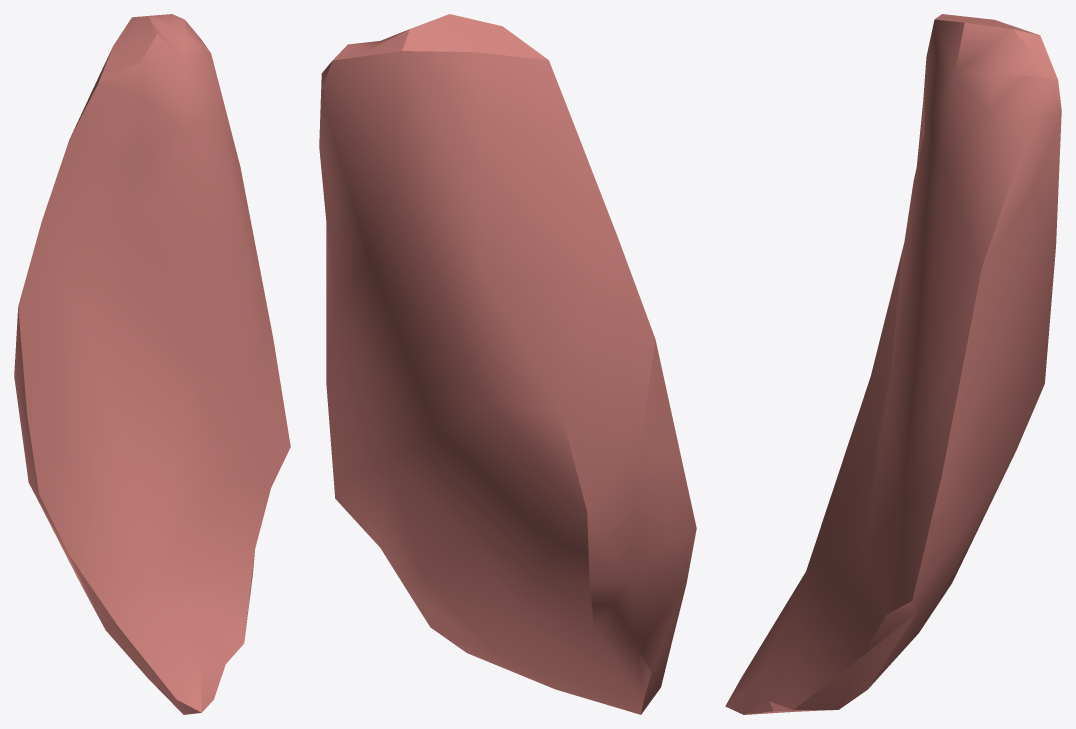
Rendered from fma81553_mm1326m.glb.
3 views of the same model, side by side, from view 1: azimuth 30°, elevation 25°; view 2: azimuth 150°, elevation 25°; view 3: azimuth 270°, elevation 25° (orthographic). The views are drawn at different scales.
Parts seen in each view (by area): view 1: FMA81553_MM1326M; view 2: FMA81553_MM1326M; view 3: FMA81553_MM1326M.
Boxes of the visible parts, <box> form: FMA81553_MM1326M: <box>14,14,290,714</box>; FMA81553_MM1326M: <box>319,14,696,714</box>; FMA81553_MM1326M: <box>725,14,1061,714</box>.
Bounding box in the file's own units: 0.00553 × 0.0118 × 0.00497.
